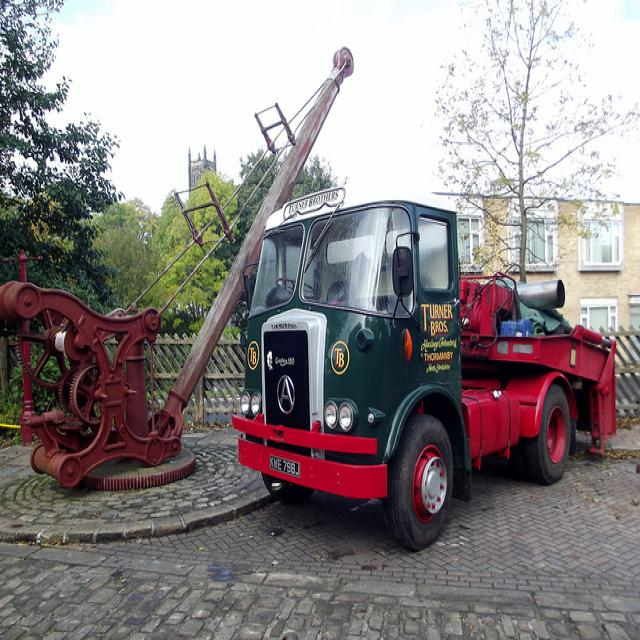Vehicle: (228, 189, 621, 554)
